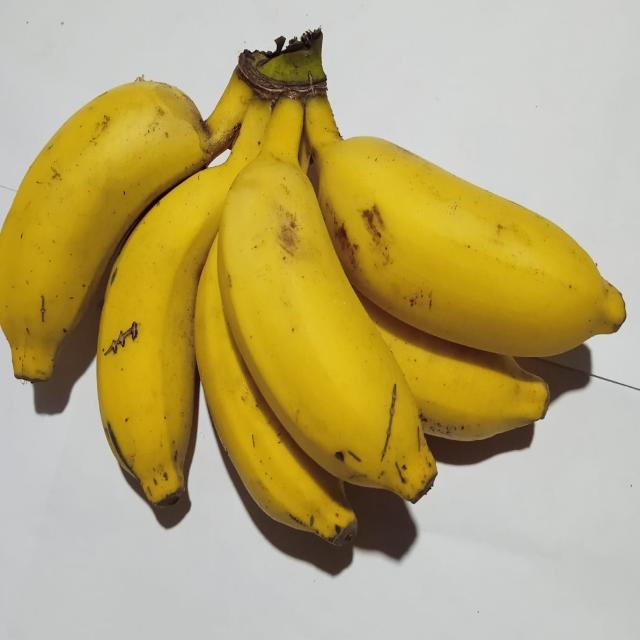banana: (219, 96, 436, 501), (306, 96, 625, 356), (0, 73, 252, 380), (97, 99, 270, 505), (195, 239, 356, 545), (359, 295, 549, 440)
